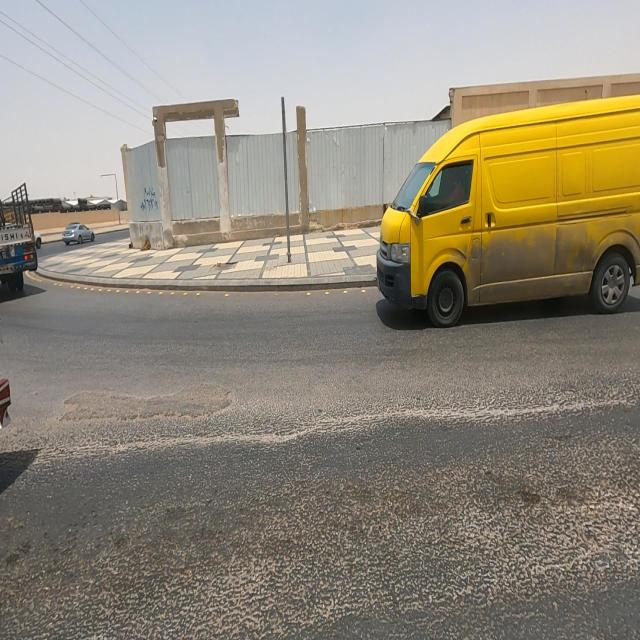Graffiti: (142, 186, 158, 214)
